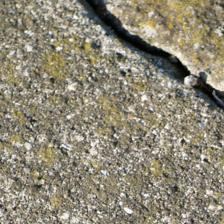Crack: (40, 3, 180, 106)
